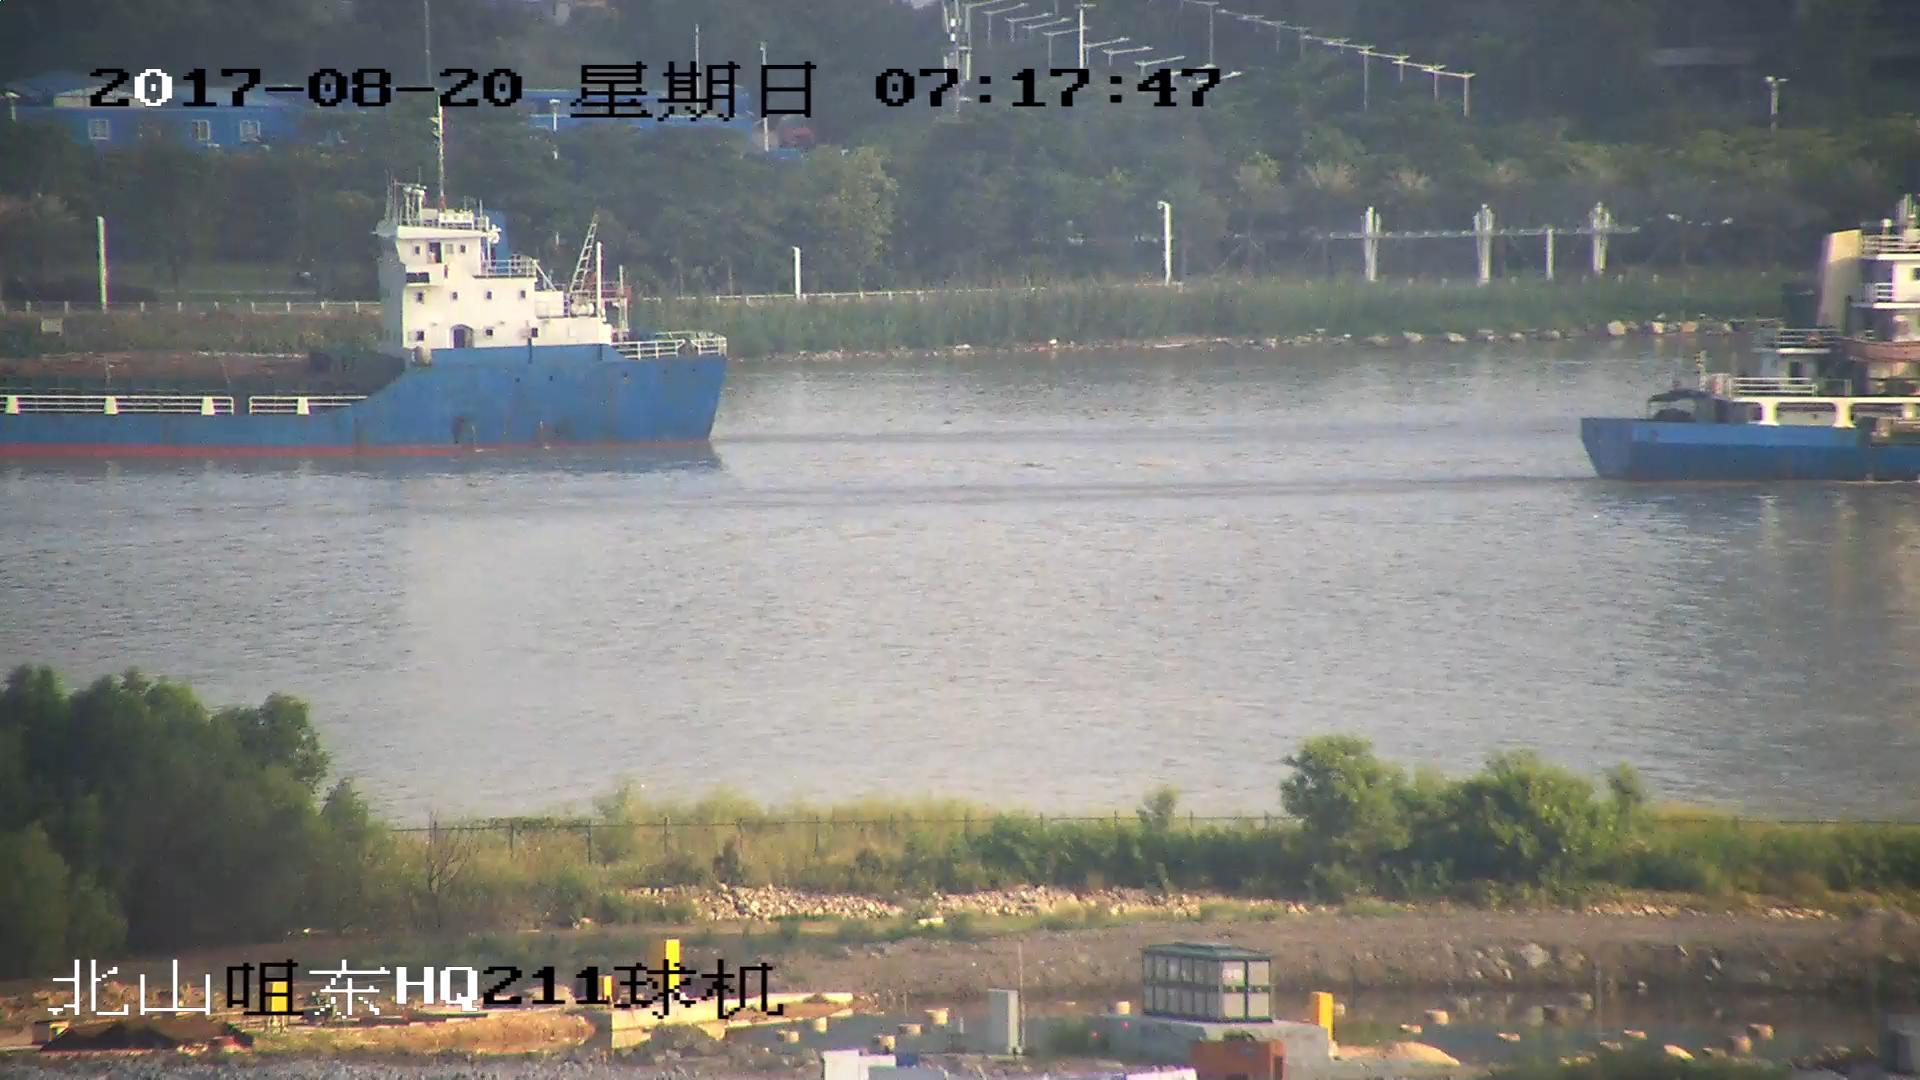Ship: (3, 193, 727, 465), (1590, 215, 1920, 483)
